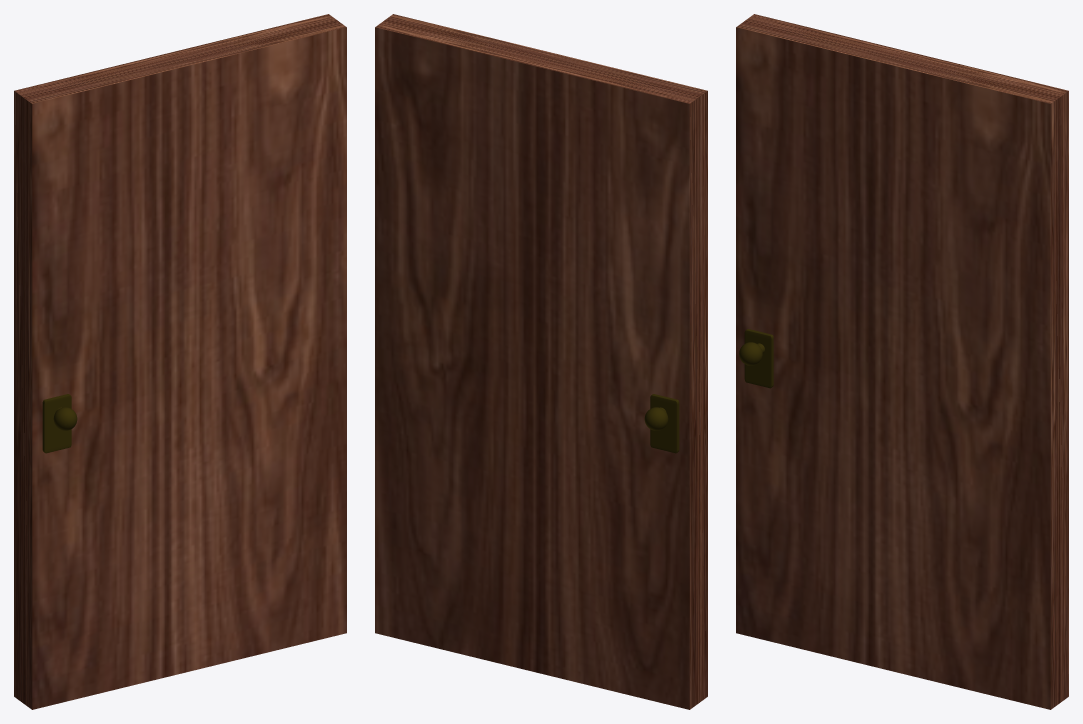
The model's file is door.glb.
3 renders of one model, left to right at view 1: azimuth 30°, elevation 25°; view 2: azimuth 150°, elevation 25°; view 3: azimuth 330°, elevation 25°, orthographic.
Parts seen in each view (by area): view 1: Cube, Cube.002; view 2: Cube, Cube.001; view 3: Cube, Cube.002.
Part boxes in pixels (<box>): Cube: <box>14,14,346,709</box>; Cube.002: <box>42,394,71,453</box>; Cube: <box>375,14,707,709</box>; Cube.001: <box>650,394,679,453</box>; Cube: <box>736,14,1068,709</box>; Cube.002: <box>744,329,773,388</box>.
Bounding box in the file's own units: 4.52 × 8.32 × 1.2.
2 materials, 1 textured.
